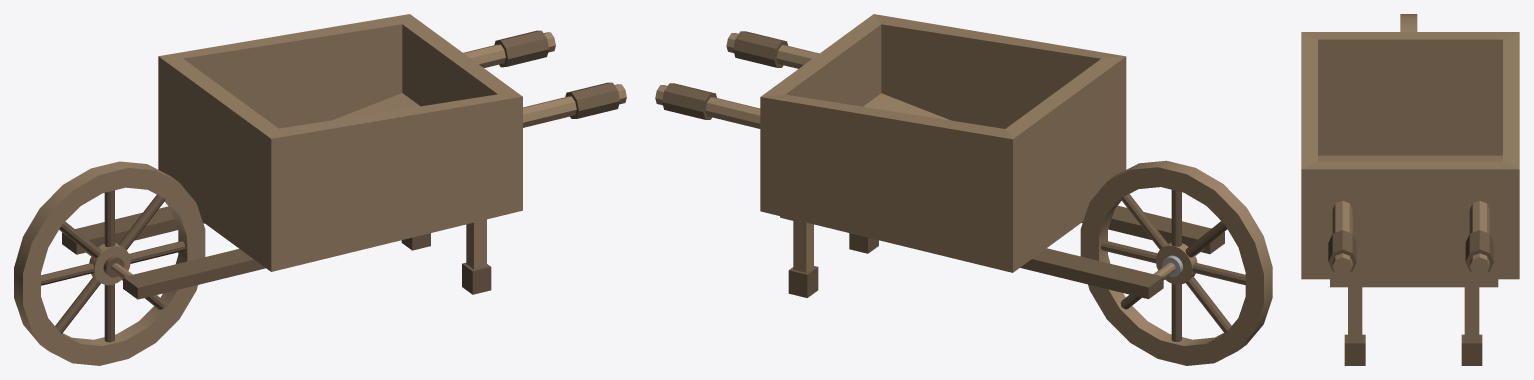
The model's file is env_Wheelbarrow.fbx.
The picture shows the model from 3 angles, left to right: view 1: azimuth 30°, elevation 25°; view 2: azimuth 150°, elevation 25°; view 3: azimuth 270°, elevation 25°; orthographic projection. The views are drawn at different scales.
Parts seen in each view (by area): view 1: env_Wheelbarrow; view 2: env_Wheelbarrow; view 3: env_Wheelbarrow.
Part boxes in pixels (left/top/right/bottom): env_Wheelbarrow: left=14, top=14, right=626, bottom=365; env_Wheelbarrow: left=655, top=14, right=1272, bottom=365; env_Wheelbarrow: left=1301, top=14, right=1519, bottom=365.
Size of the model in its own units: 378 by 149 by 130.
